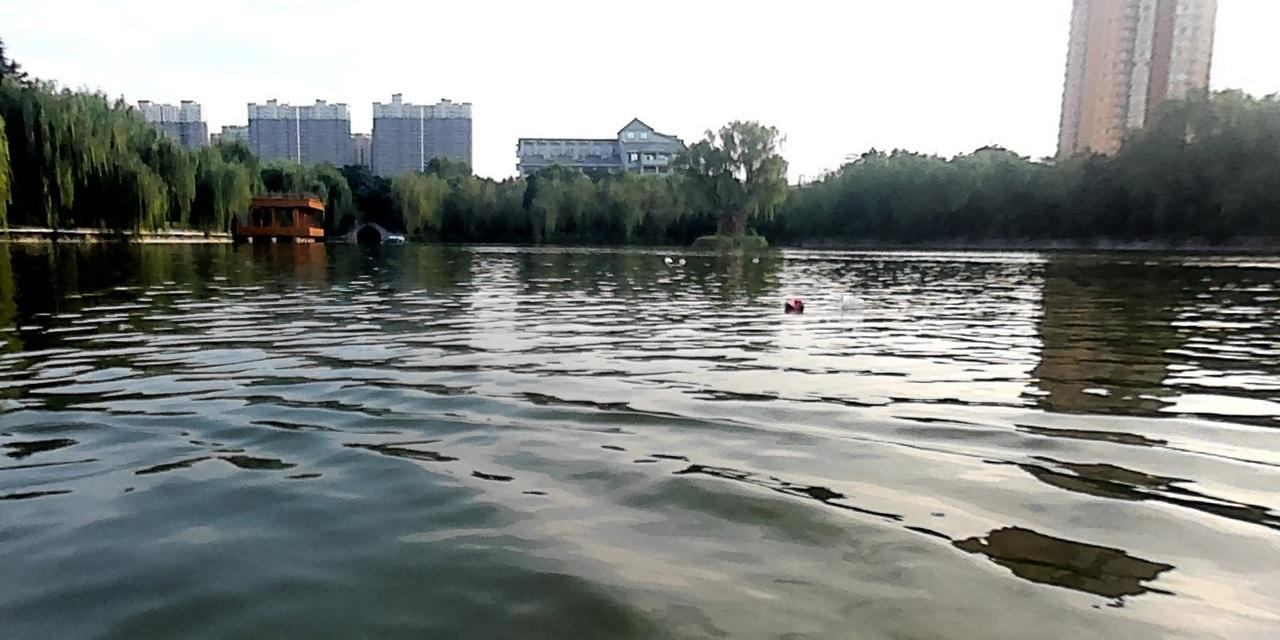bottle: (836, 294, 865, 309), (783, 296, 802, 312)
